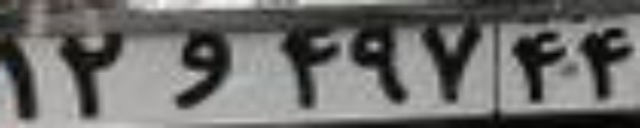1: (0, 31, 35, 118)
2: (59, 29, 126, 119)
4: (278, 24, 335, 108), (510, 32, 569, 102), (577, 27, 632, 100)
7: (422, 21, 482, 103)
9: (352, 24, 411, 103)
vav: (159, 31, 234, 107)
